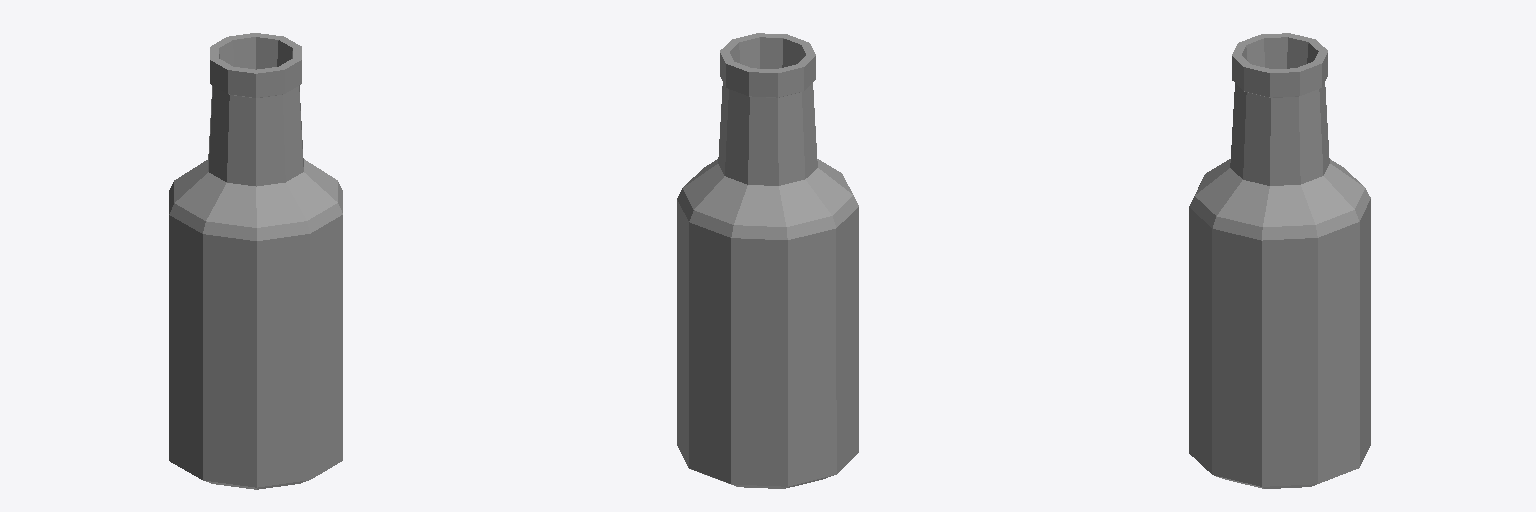
Rendered from TrueBloodv2.obj.
3 views of the same model, side by side, from view 1: azimuth 30°, elevation 25°; view 2: azimuth 150°, elevation 25°; view 3: azimuth 270°, elevation 25° (orthographic).
Visible parts, largest first — view 1: Circle; view 2: Circle; view 3: Circle.
Boxes of the visible parts, <box> form: Circle: <box>169,33,342,489</box>; Circle: <box>677,33,858,488</box>; Circle: <box>1189,33,1370,488</box>.
Size of the model in its own units: 0.0826 by 0.206 by 0.0838.